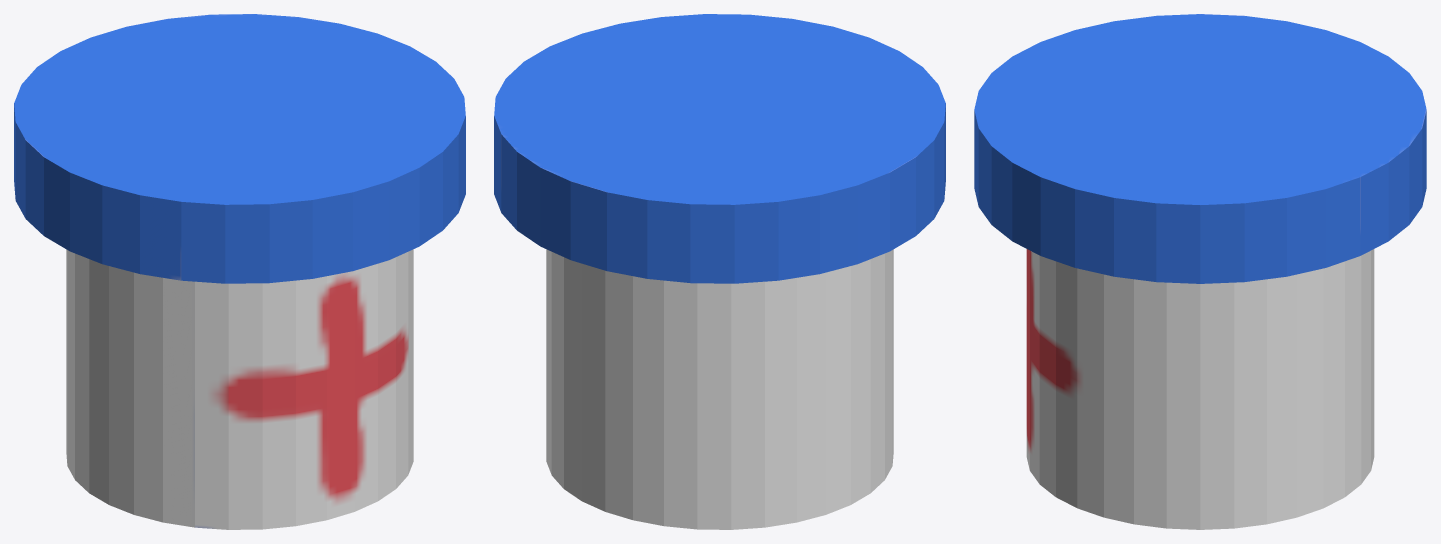
File: Pill_bottle.fbx
3 views of the same model, side by side, from view 1: azimuth 30°, elevation 25°; view 2: azimuth 150°, elevation 25°; view 3: azimuth 270°, elevation 25° (orthographic).
Visible parts, largest first — view 1: Cylinder; view 2: Cylinder; view 3: Cylinder.
Boxes of the visible parts, <box> form: Cylinder: <box>14,14,465,529</box>; Cylinder: <box>494,14,945,529</box>; Cylinder: <box>974,14,1426,529</box>.
Bounding box in the file's own units: 260 × 220 × 260.
1 material, 1 textured.
